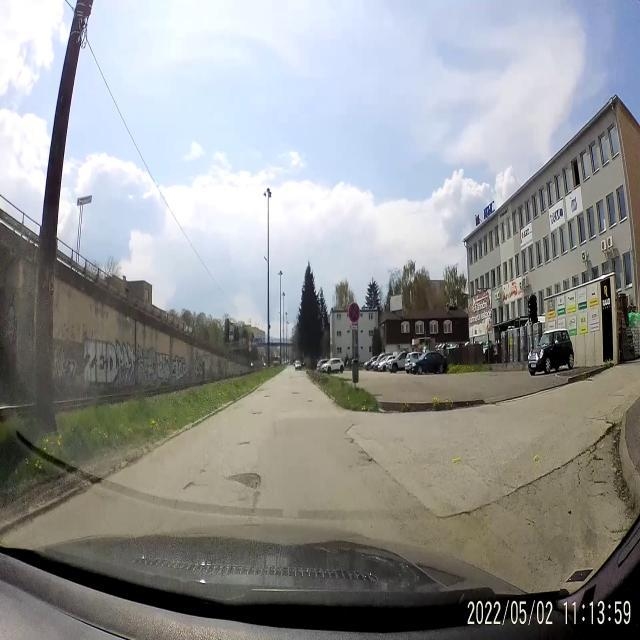Pothole: (344, 422, 378, 472), (227, 460, 267, 490), (249, 402, 270, 422), (238, 434, 258, 450), (180, 478, 194, 497), (288, 388, 300, 400), (305, 397, 313, 409)
